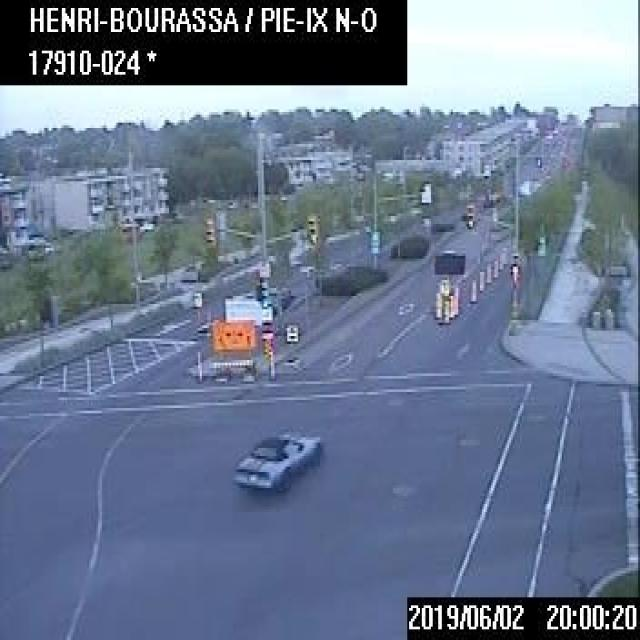construction: (209, 293, 273, 384), (431, 248, 464, 323), (468, 277, 476, 301), (441, 295, 448, 322), (448, 293, 454, 316), (434, 290, 439, 316), (453, 290, 458, 314), (478, 268, 483, 290), (485, 261, 490, 281), (492, 257, 497, 276), (498, 250, 502, 268)
vehicle: (233, 424, 322, 496)
